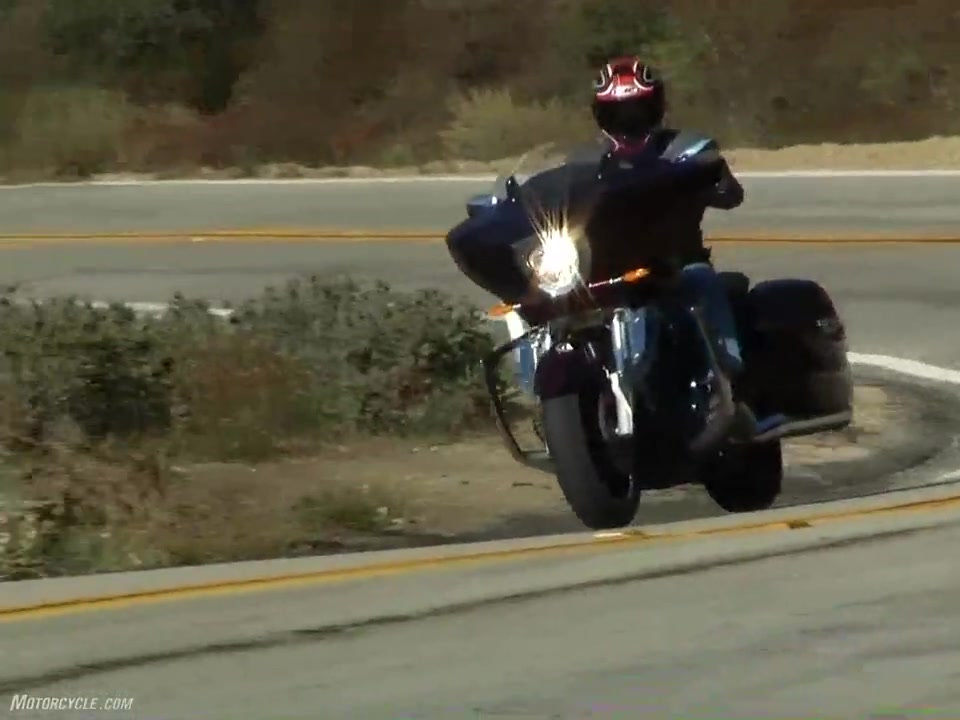motorbike: (444, 136, 860, 532)
